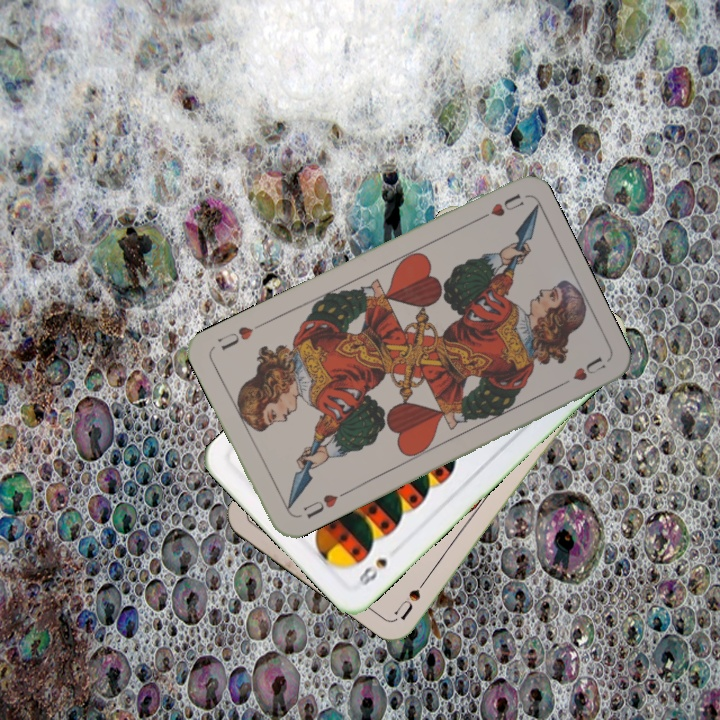HU: (471, 189, 526, 225), (299, 488, 348, 522)
S8: (355, 554, 390, 592)
SU: (390, 568, 434, 623)
